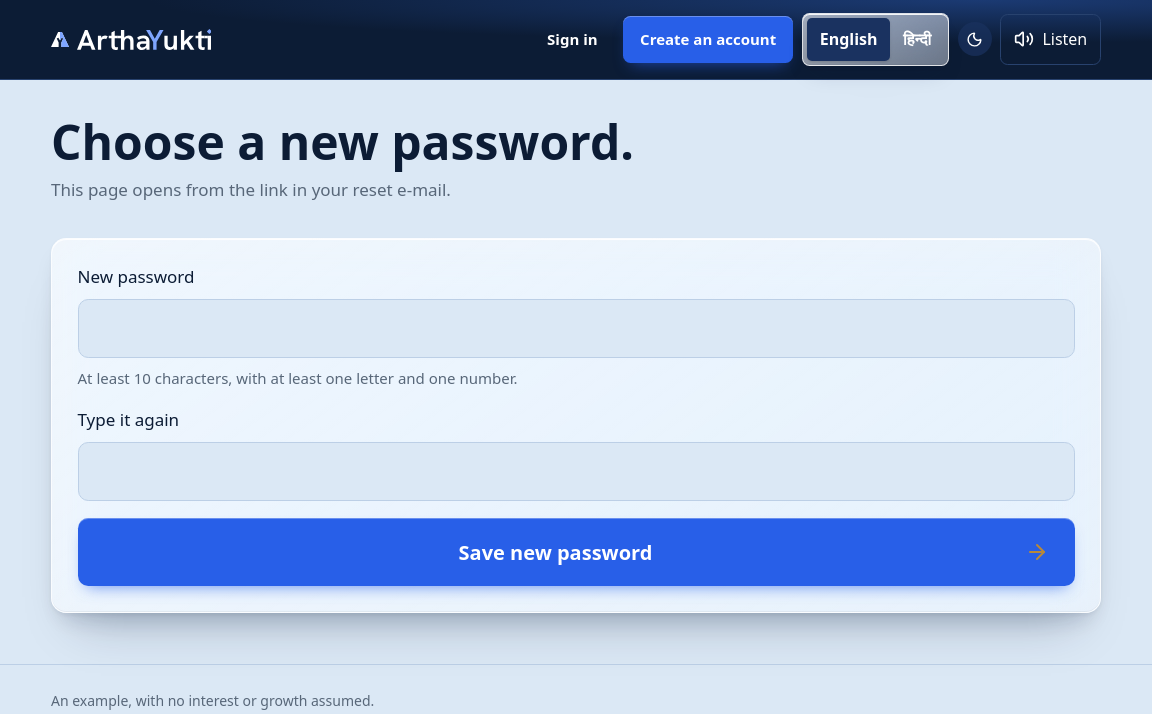
reset password screen › sends the token and the new password, then confirms
In the password field labelled "New password": (576, 329) [78,299,1074,358], type "Fresh-Pass-12345"
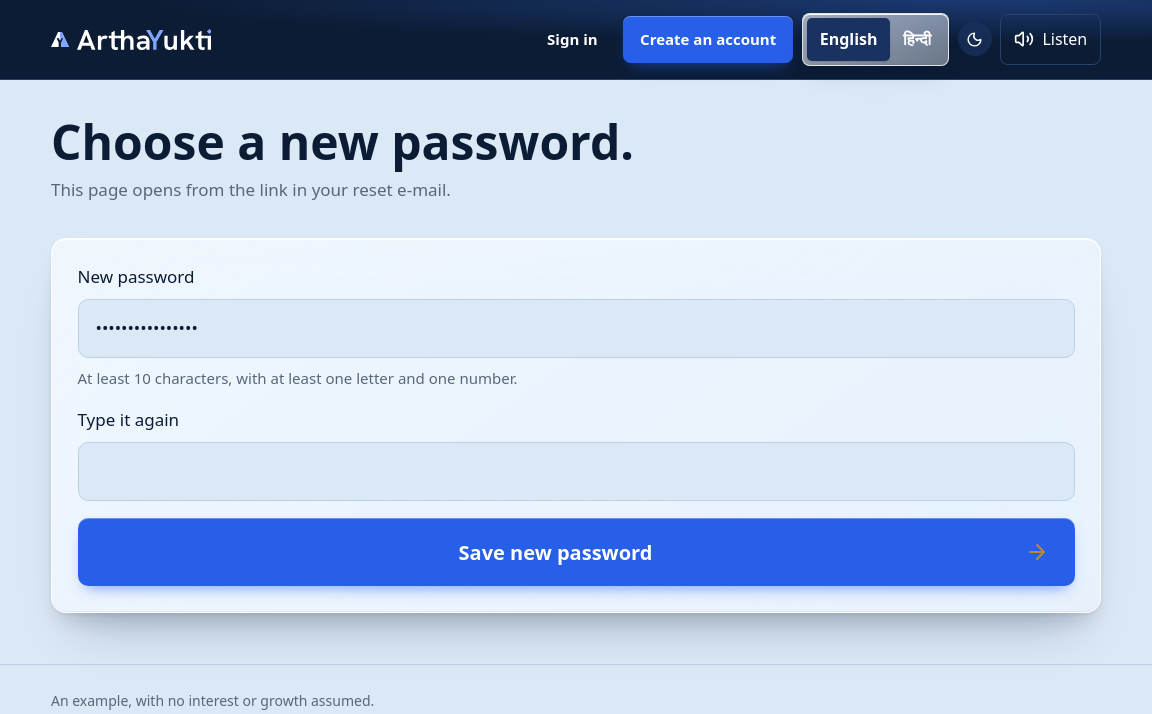
In the password field labelled "Type it again": (576, 472) [78,442,1074,502], type "Fresh-Pass-12345"
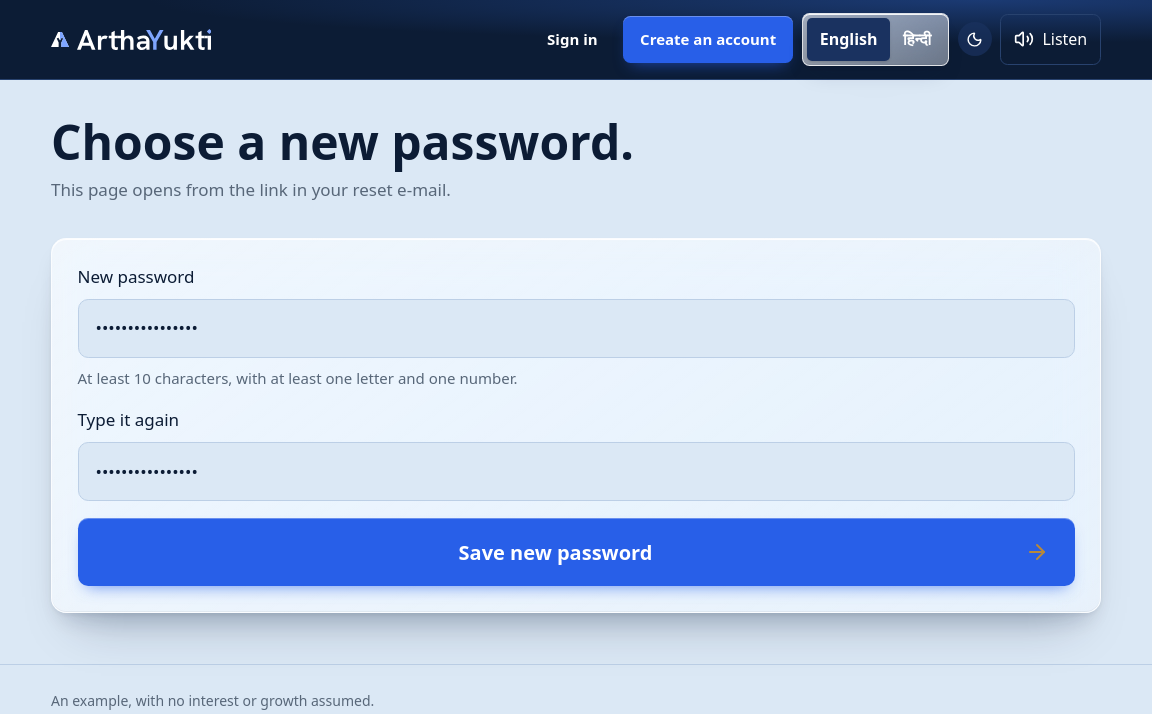
Click the button "Save new password": (576, 552) [78,518,1074,586]
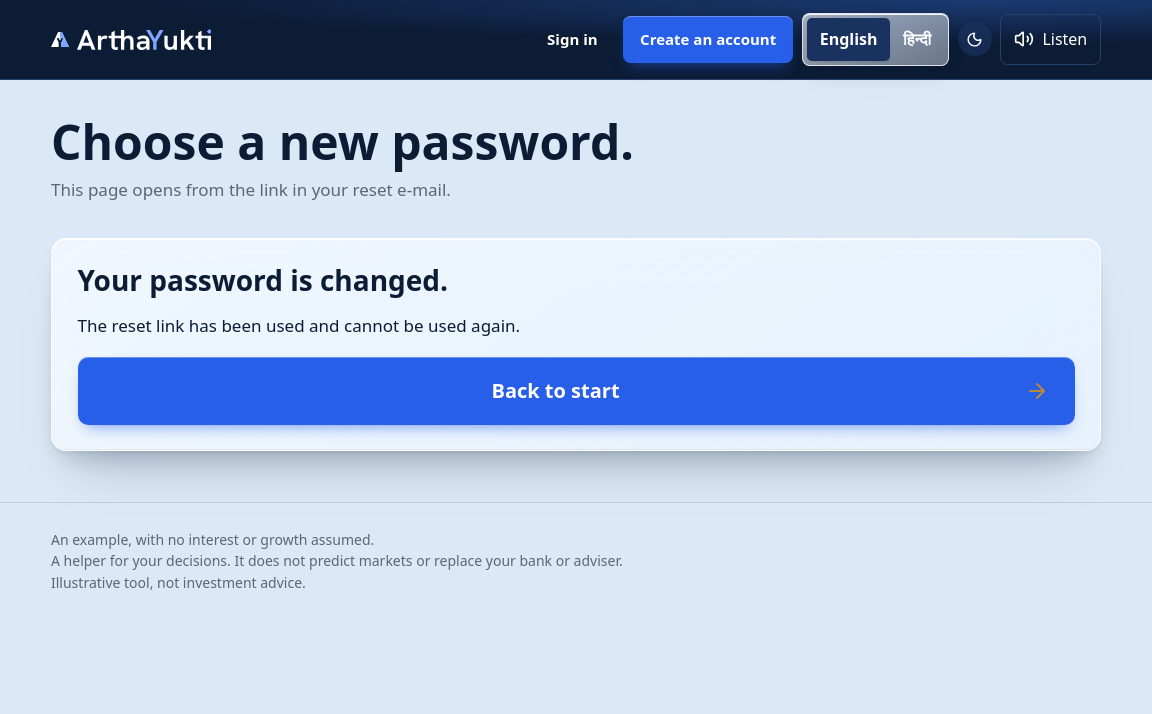
expect the heading "Your password is changed." is shown: met, box [78,261,448,299]
